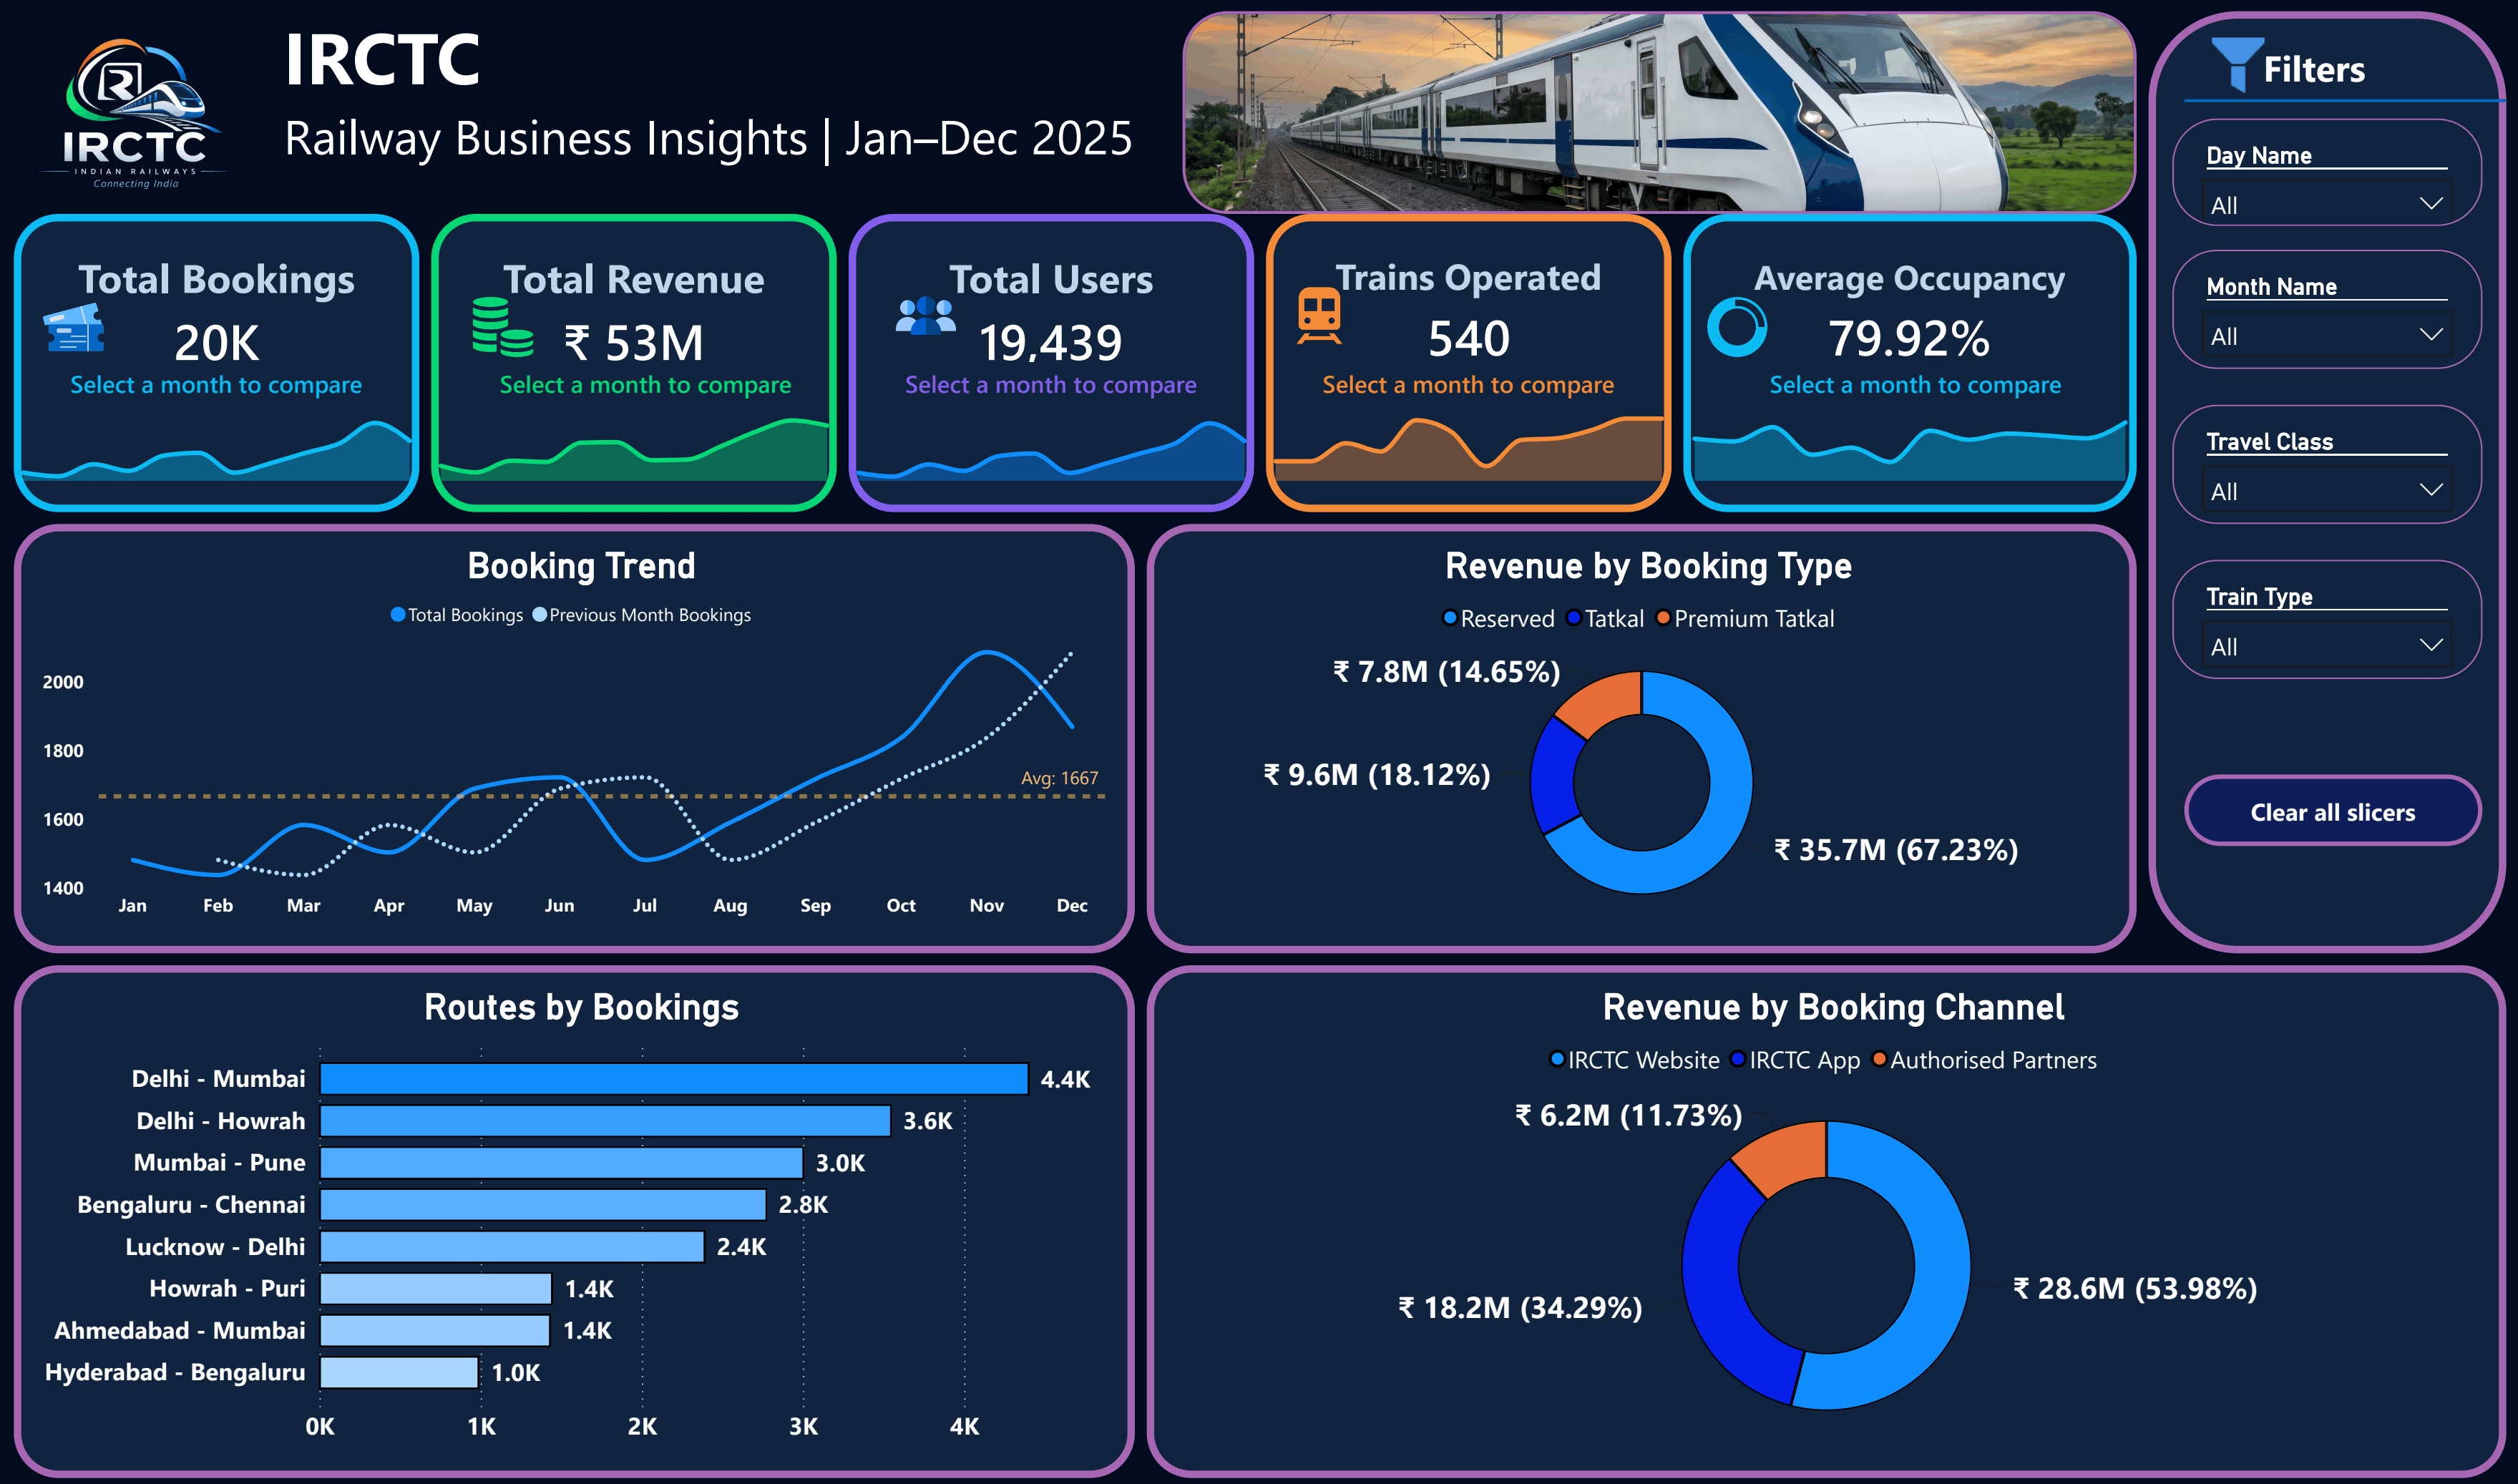

This screenshot's page, from the dashboard's own definition file:
{"tool":"powerbi","page":{"name":"Page 1","canvas":[1700,1000],"ordinal":0},"visuals":[{"type":"image","box":[800,8,640,136],"z":0},{"type":"cardVisual","fields":{"Data":["My Measures.Total Users"]},"box":[576,144,272,200],"z":500},{"type":"shape","box":[1448,8,240,632],"z":1000},{"type":"cardVisual","fields":{"Data":["My Measures.Total Revenue"]},"box":[296,144,272,200],"z":2000},{"type":"cardVisual","fields":{"Data":["My Measures.Total Booking"]},"box":[16,144,272,200],"z":3000},{"type":"cardVisual","fields":{"Data":["My Measures.MoM Booking Text"]},"box":[8,224,288,64],"z":4000},{"type":"lineChart","title":"Booking Trend","fields":{"Y":["My Measures.Total Bookings","My Measures.PM Bookings"],"Category":["Calendar.Month_Name"]},"box":[16,352,752,288],"z":5000},{"type":"cardVisual","fields":{"Data":["My Measures.MoM Revenue Text"]},"box":[304,224,272,64],"z":6000},{"type":"donutChart","title":"Revenue by Booking Type","fields":{"Y":["My Measures.Total Revenue"],"Category":["IRCTC_data.Booking_Type"]},"box":[776,352,664,288],"z":7000},{"type":"donutChart","title":"Revenue by Booking Channel","fields":{"Y":["My Measures.Total Revenue"],"Category":["IRCTC_data.Booking_Channel"]},"box":[776,648,912,344],"z":8000},{"type":"barChart","title":"Routes by Bookings","fields":{"Category":["IRCTC_data.Route"],"Y":["My Measures.Total Bookings"]},"box":[16,648,752,344],"z":9000},{"type":"image","box":[0,16,192,128],"z":10000},{"type":"textbox","box":[192,0,608,128],"z":11000},{"type":"image","box":[32,200,48,40],"z":12000},{"type":"lineChart","fields":{"Y":["My Measures.Total Bookings"],"Category":["Calendar.Month_Name"]},"box":[8,264,288,64],"z":13000},{"type":"image","box":[312,200,64,40],"z":16000},{"type":"lineChart","fields":{"Y":["My Measures.Total Revenue"],"Category":["Calendar.Month_Name"]},"box":[288,264,288,64],"z":17000},{"type":"cardVisual","fields":{"Data":["My Measures.MoM Users Text"]},"box":[576,224,272,64],"z":18000},{"type":"image","box":[600,192,56,40],"z":20000},{"type":"lineChart","fields":{"Y":["My Measures.Total Users"],"Category":["Calendar.Month_Name"]},"box":[568,264,288,64],"z":22000},{"type":"cardVisual","fields":{"Data":["My Measures.Trains Operated"]},"box":[856,144,272,200],"z":23000},{"type":"image","box":[864,192,56,40],"z":24000},{"type":"cardVisual","fields":{"Data":["My Measures.MoM Trains Text"]},"box":[856,224,272,64],"z":25000},{"type":"lineChart","fields":{"Y":["My Measures.Trains Operated"],"Category":["Calendar.Month_Name"]},"box":[848,264,288,64],"z":26000},{"type":"cardVisual","fields":{"Data":["My Measures.Average Occupancy"]},"box":[1136,144,304,200],"z":27000},{"type":"image","box":[1144,200,56,40],"z":29000},{"type":"lineChart","fields":{"Y":["My Measures.Average Occupancy"],"Category":["Calendar.Month_Name"]},"box":[1128,264,320,64],"z":30000},{"type":"cardVisual","fields":{"Data":["My Measures.MoM Occuoency Text"]},"box":[1144,224,296,64],"z":31000},{"type":"textbox","box":[1520,24,96,56],"z":33000},{"type":"image","box":[1472,24,72,40],"z":34000},{"type":"shape","box":[1472,0,216,136],"z":35000},{"type":"slicer","fields":{"Values":["Calendar.Day_Name"]},"box":[1464,80,208,72],"z":36000},{"type":"slicer","fields":{"Values":["Calendar.Month_Name"]},"box":[1464,168,208,80],"z":37000},{"type":"slicer","fields":{"Values":["IRCTC_data.Travel_Class"]},"box":[1464,272,208,80],"z":38000},{"type":"slicer","fields":{"Values":["IRCTC_data.Train_Type"]},"box":[1464,376,208,80],"z":39000},{"type":"actionButton","box":[1472,520,200,48],"z":40000}]}

Visuals, with their boxes in screenshot pixels (x1, y1, x2, y2), scaled from the page's 1700x1000 canvas onto the 2518x1484 screenshot:
image: <region>1185, 12, 2133, 214</region>
cardVisual - My Measures.Total Users: <region>853, 214, 1256, 510</region>
shape: <region>2144, 12, 2500, 950</region>
cardVisual - My Measures.Total Revenue: <region>439, 214, 841, 510</region>
cardVisual - My Measures.Total Booking: <region>24, 214, 426, 510</region>
cardVisual - My Measures.MoM Booking Text: <region>12, 333, 439, 427</region>
"Booking Trend" lineChart: <region>24, 522, 1138, 950</region>
cardVisual - My Measures.MoM Revenue Text: <region>450, 333, 853, 427</region>
"Revenue by Booking Type" donutChart: <region>1149, 522, 2133, 950</region>
"Revenue by Booking Channel" donutChart: <region>1149, 962, 2500, 1472</region>
"Routes by Bookings" barChart: <region>24, 962, 1138, 1472</region>
image: <region>0, 24, 284, 214</region>
textbox: <region>284, 0, 1185, 190</region>
image: <region>47, 297, 119, 356</region>
lineChart - My Measures.Total Bookings x Calendar.Month_Name: <region>12, 392, 439, 487</region>
image: <region>462, 297, 557, 356</region>
lineChart - My Measures.Total Revenue x Calendar.Month_Name: <region>426, 392, 853, 487</region>
cardVisual - My Measures.MoM Users Text: <region>853, 333, 1256, 427</region>
image: <region>889, 285, 972, 344</region>
lineChart - My Measures.Total Users x Calendar.Month_Name: <region>841, 392, 1268, 487</region>
cardVisual - My Measures.Trains Operated: <region>1268, 214, 1671, 510</region>
image: <region>1279, 285, 1362, 344</region>
cardVisual - My Measures.MoM Trains Text: <region>1268, 333, 1671, 427</region>
lineChart - My Measures.Trains Operated x Calendar.Month_Name: <region>1256, 392, 1683, 487</region>
cardVisual - My Measures.Average Occupancy: <region>1683, 214, 2133, 510</region>
image: <region>1694, 297, 1777, 356</region>
lineChart - My Measures.Average Occupancy x Calendar.Month_Name: <region>1671, 392, 2144, 487</region>
cardVisual - My Measures.MoM Occuoency Text: <region>1694, 333, 2133, 427</region>
textbox: <region>2251, 36, 2393, 119</region>
image: <region>2180, 36, 2287, 95</region>
shape: <region>2180, 0, 2500, 202</region>
slicer - Calendar.Day_Name: <region>2168, 119, 2476, 225</region>
slicer - Calendar.Month_Name: <region>2168, 249, 2476, 368</region>
slicer - IRCTC_data.Travel_Class: <region>2168, 404, 2476, 522</region>
slicer - IRCTC_data.Train_Type: <region>2168, 558, 2476, 677</region>
actionButton: <region>2180, 771, 2476, 843</region>
